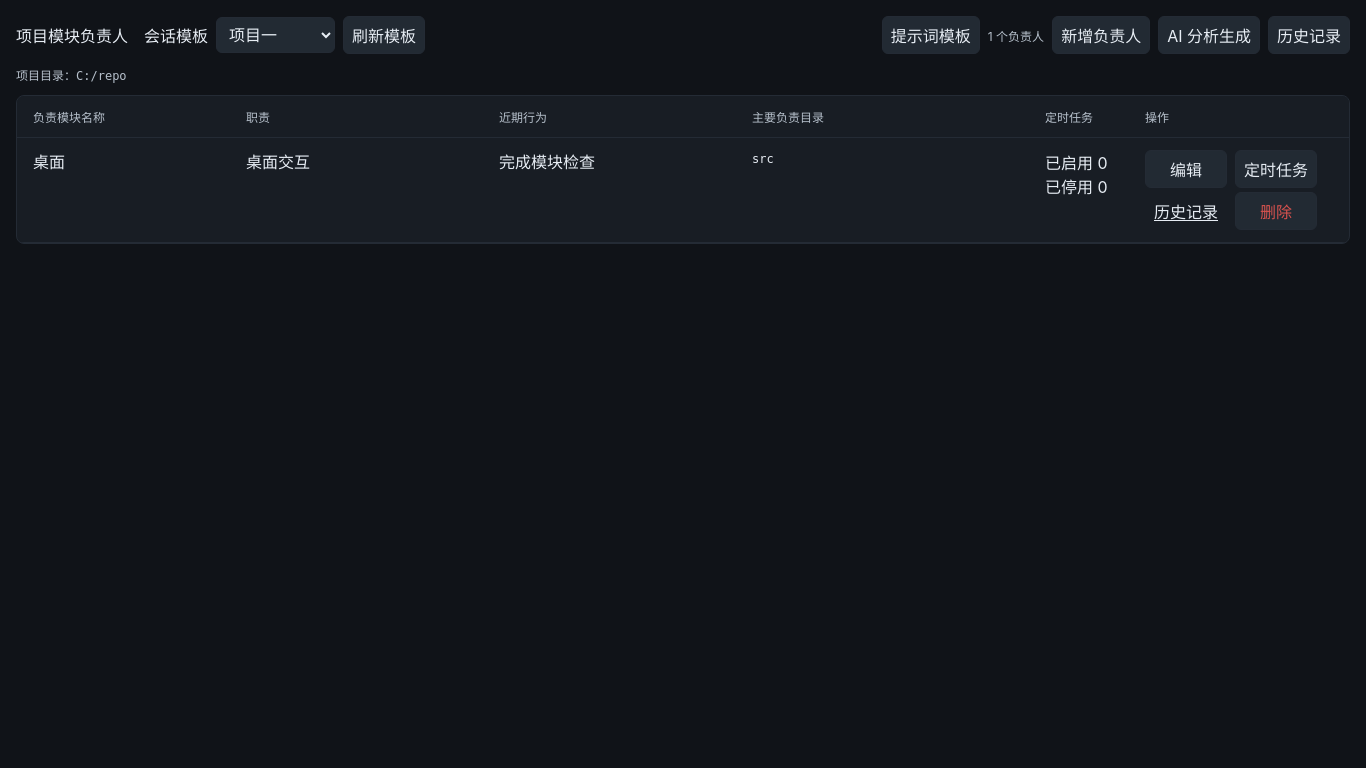
Scenario: module owner workspace › polls only generation, preserves records and stops when hidden
Expected: the button with aria-label "编辑 桌面" is shown, [1145,150,1227,188]
What coordinates should you click on to do the following:
click the button "AI 分析生成"
I would click on:
 (1209, 35)
Its box is [1158,16,1260,54].
Wait 2000 ms
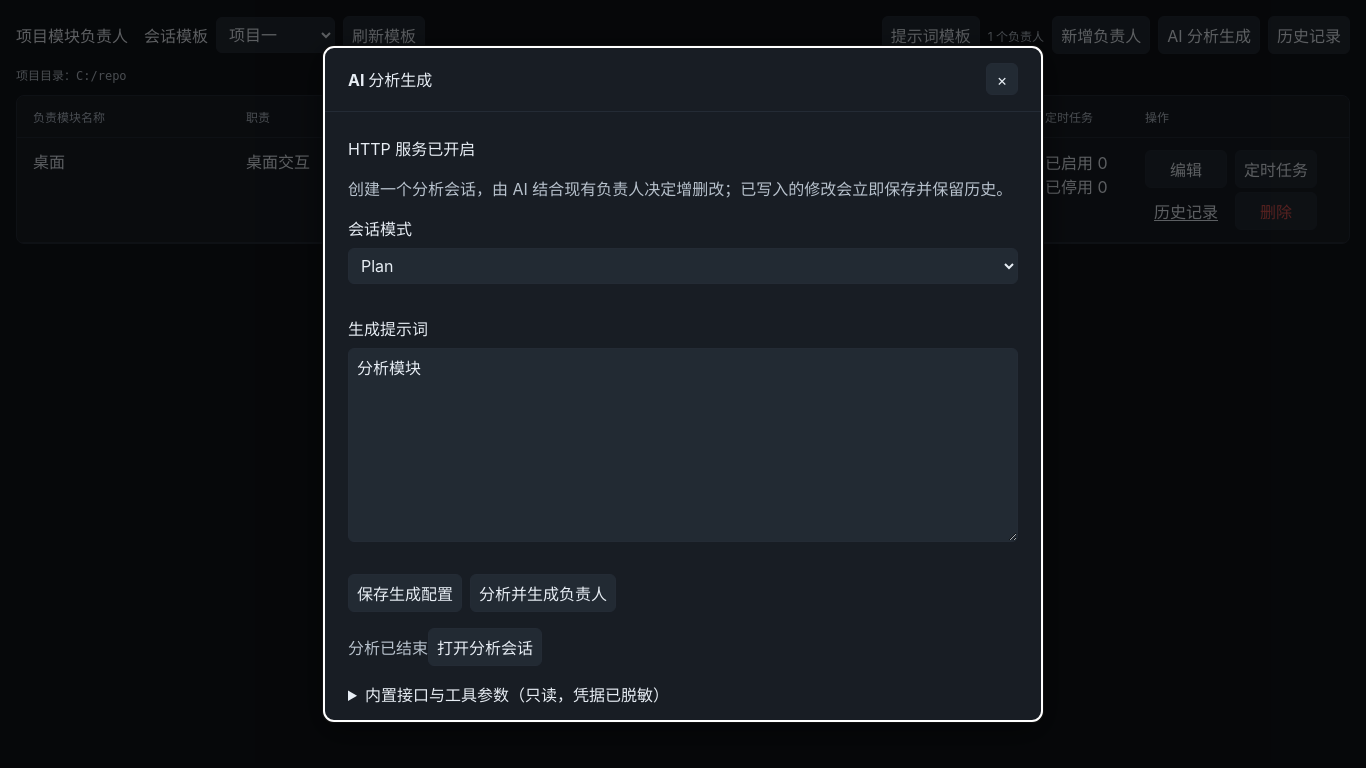
Now the text "分析进行中" is shown, box [348,628,542,666]
Now the text "分析已结束" is shown, box [348,638,428,658]
